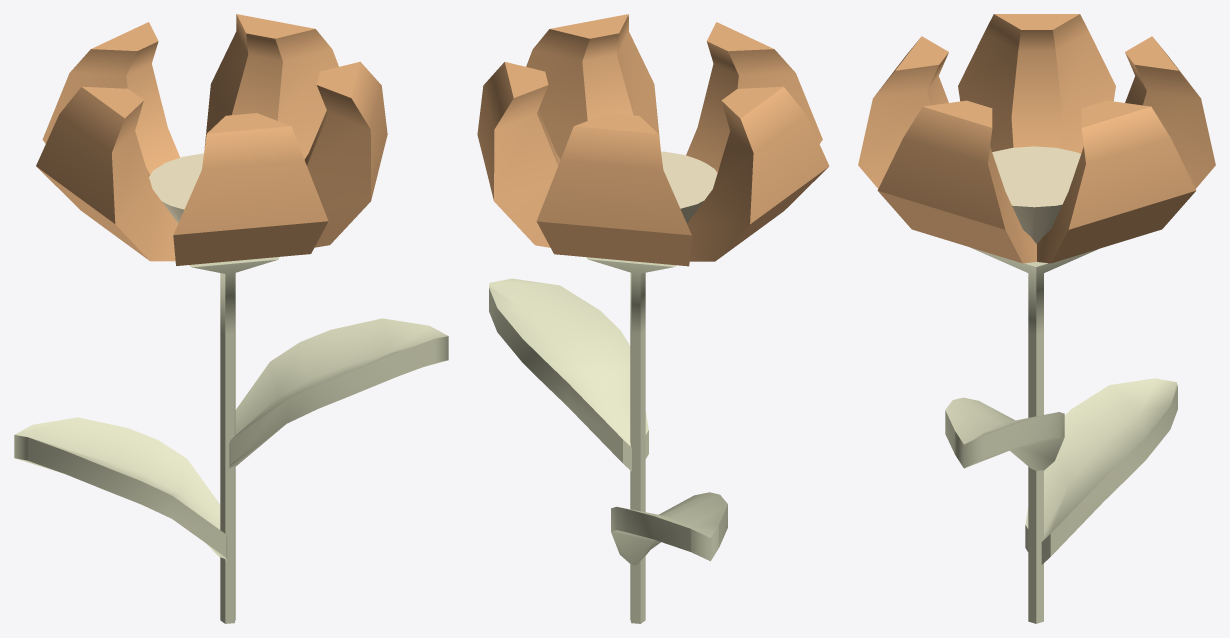
Rendered from Flor02.gltf.
3 renders of one model, left to right at view 1: azimuth 30°, elevation 25°; view 2: azimuth 150°, elevation 25°; view 3: azimuth 270°, elevation 25°, orthographic.
Parts seen in each view (by area): view 1: pPipe12, pCube6, pCube7, pPipe13, pCylinder1; view 2: pPipe12, pCube6, pCube7, pPipe13, pCylinder1; view 3: pPipe12, pCube7, pCube6, pPipe13, pCylinder1.
Boxes of the visible parts, box(x1,y1,x2,y2) form: pPipe12: box(36, 14, 387, 265); pCube6: box(229, 318, 448, 468); pCube7: box(14, 417, 227, 560); pPipe13: box(189, 257, 279, 623); pCylinder1: box(149, 153, 203, 223); pPipe12: box(477, 14, 829, 266); pCube6: box(489, 278, 648, 471); pCube7: box(611, 492, 727, 565); pPipe13: box(587, 257, 676, 623); pCylinder1: box(661, 151, 717, 223); pPipe12: box(858, 14, 1215, 263); pCube7: box(1025, 378, 1177, 564); pCube6: box(945, 397, 1064, 470); pPipe13: box(970, 247, 1098, 623); pCylinder1: box(992, 146, 1080, 243).
Size of the model in its own units: 0.4598 by 0.7163 by 0.4257.
